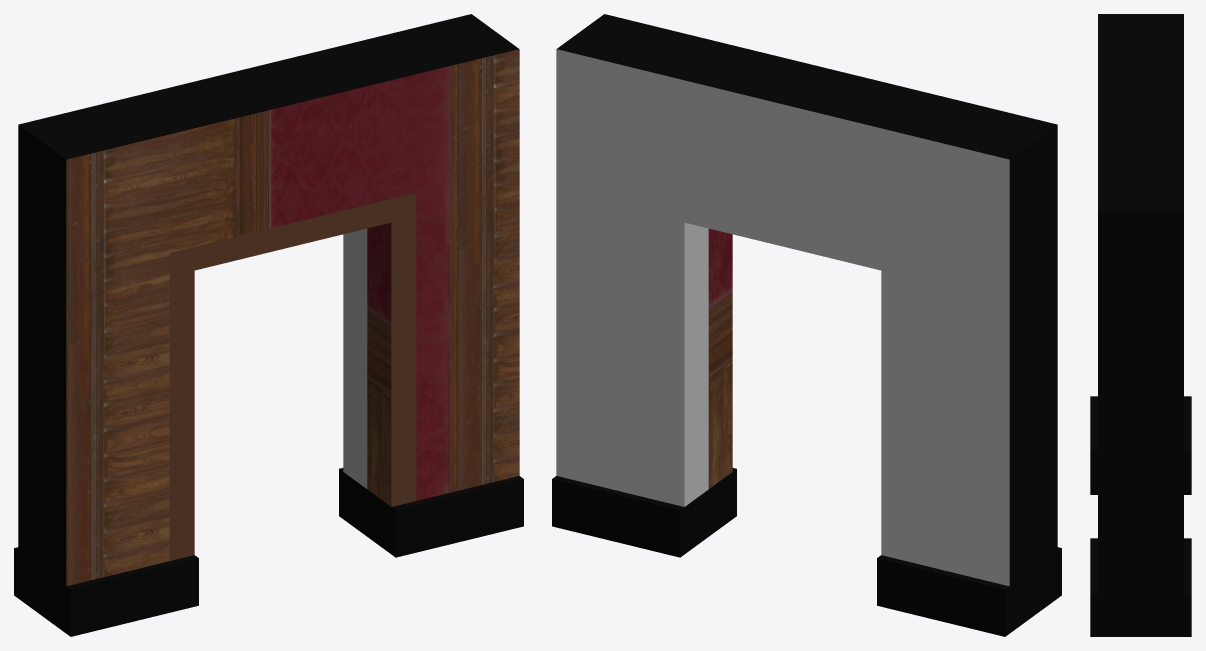
Rendered from door_simple_fzef_high.fbx.
The picture shows the model from 3 angles, left to right: view 1: azimuth 30°, elevation 25°; view 2: azimuth 150°, elevation 25°; view 3: azimuth 270°, elevation 25°; orthographic projection. The views are drawn at different scales.
Parts seen in each view (by area): view 1: Wall_Door_002__1_; view 2: Wall_Door_002__1_; view 3: Wall_Door_002__1_.
Boxes of the visible parts, x1=… form: Wall_Door_002__1_: x1=14, y1=14, x2=523, y2=636; Wall_Door_002__1_: x1=552, y1=14, x2=1061, y2=636; Wall_Door_002__1_: x1=1090, y1=14, x2=1191, y2=636.
Bounding box in the file's own units: 300 × 300 × 65.
